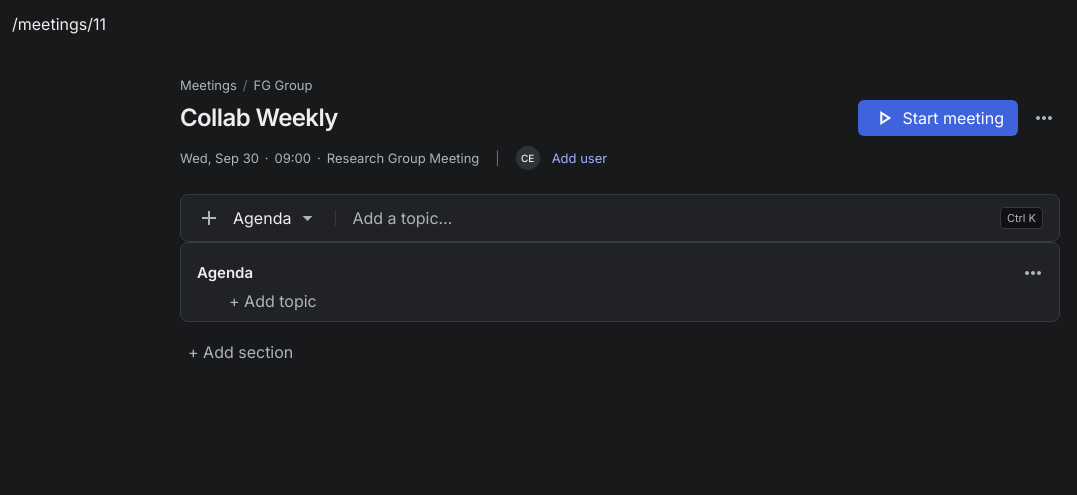
Test case: MeetingDetailPage inline section creation › creates a section inline and appends it after the last section
The image size is (1077, 495).
Expected: the heading "Collab Weekly" is shown, [180, 102, 338, 134]
Click the button "+ Add section". click: (241, 352)
box: [180, 338, 1060, 366]
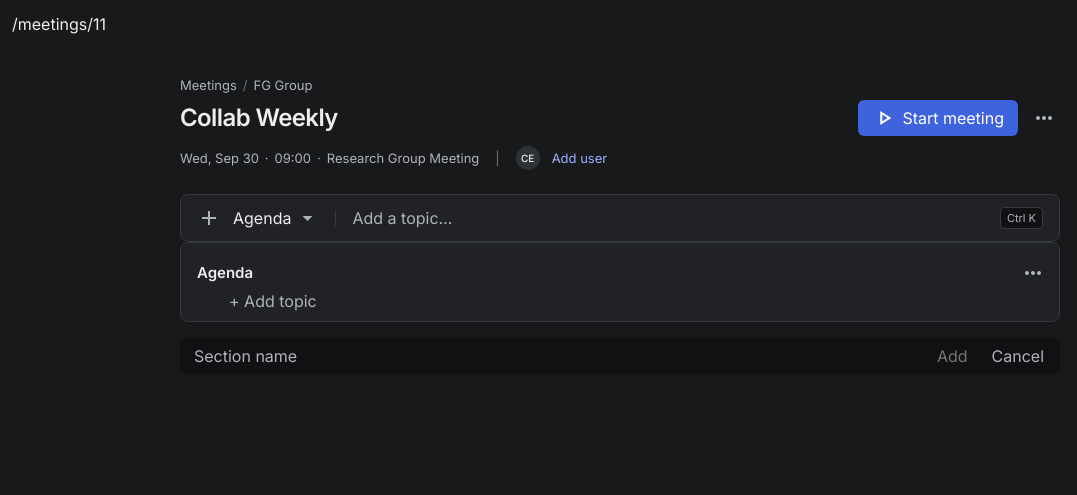
Type "TOPs" into the field named "New section name". click: (554, 356)
box: [188, 342, 921, 370]
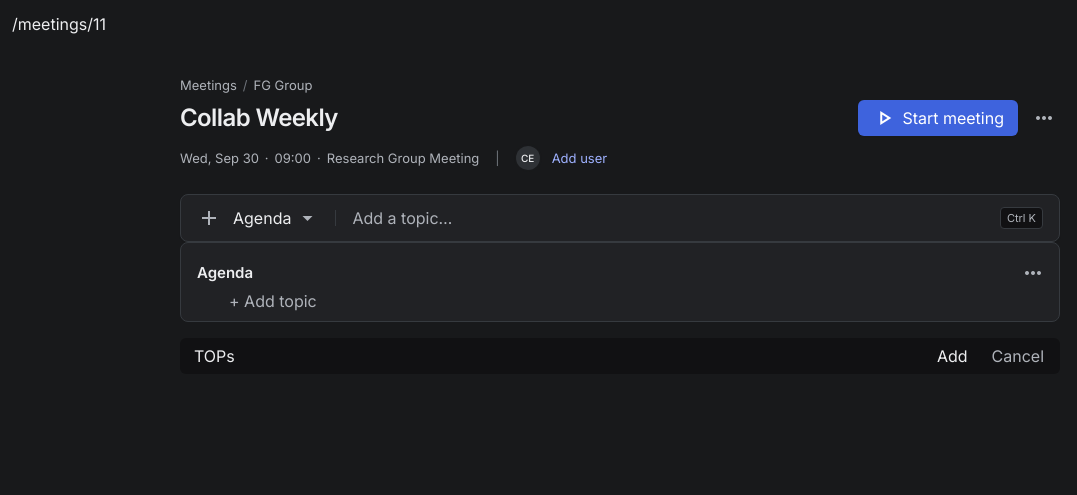
Submit the form named "New section name", box [180, 338, 1060, 374]
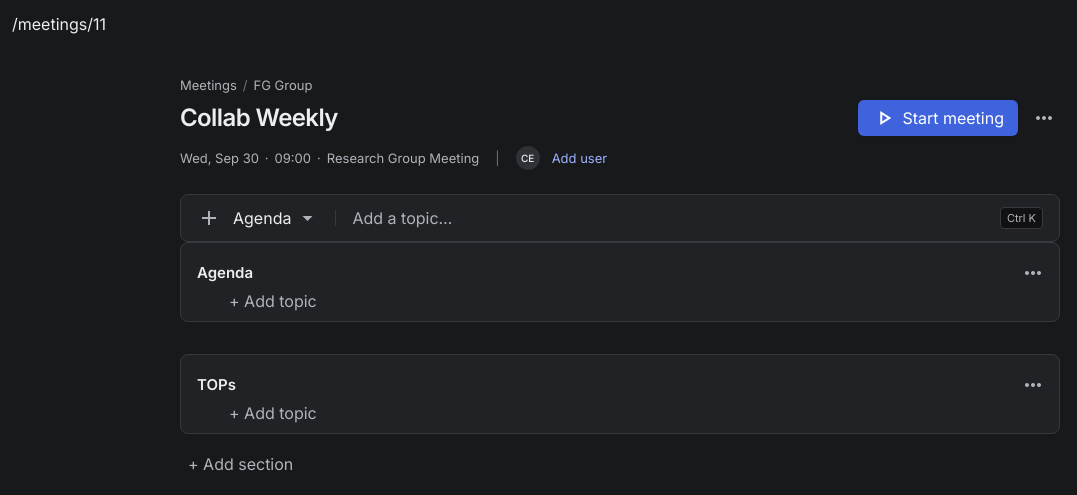
Expected: the heading "TOPs" is shown, [197, 375, 236, 395]
Expected: the button "+ Add section" is shown, [180, 450, 1060, 478]
